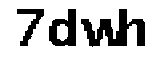7: (12, 7, 46, 50)
d: (47, 5, 79, 54)
h: (121, 3, 149, 49)
w: (79, 14, 121, 53)
